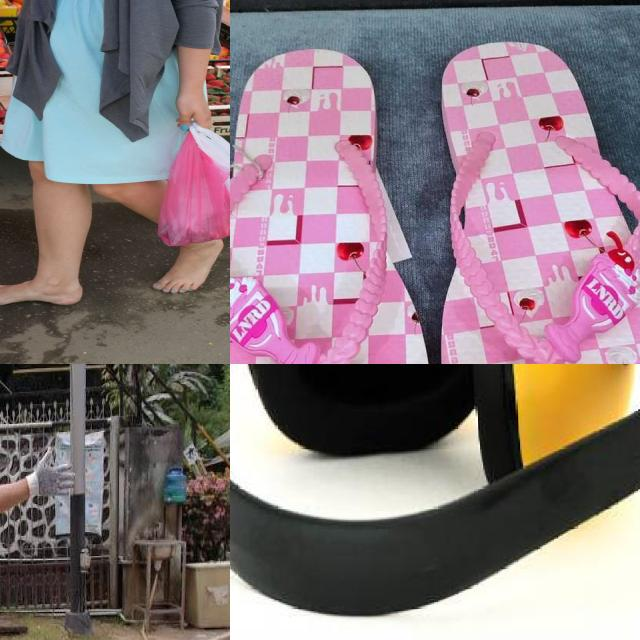Barefoots: (152, 237, 224, 293), (0, 279, 82, 305)
Ear-protection: (230, 364, 640, 618)
Sandals: (230, 19, 640, 364)
person: (0, 369, 86, 640)
